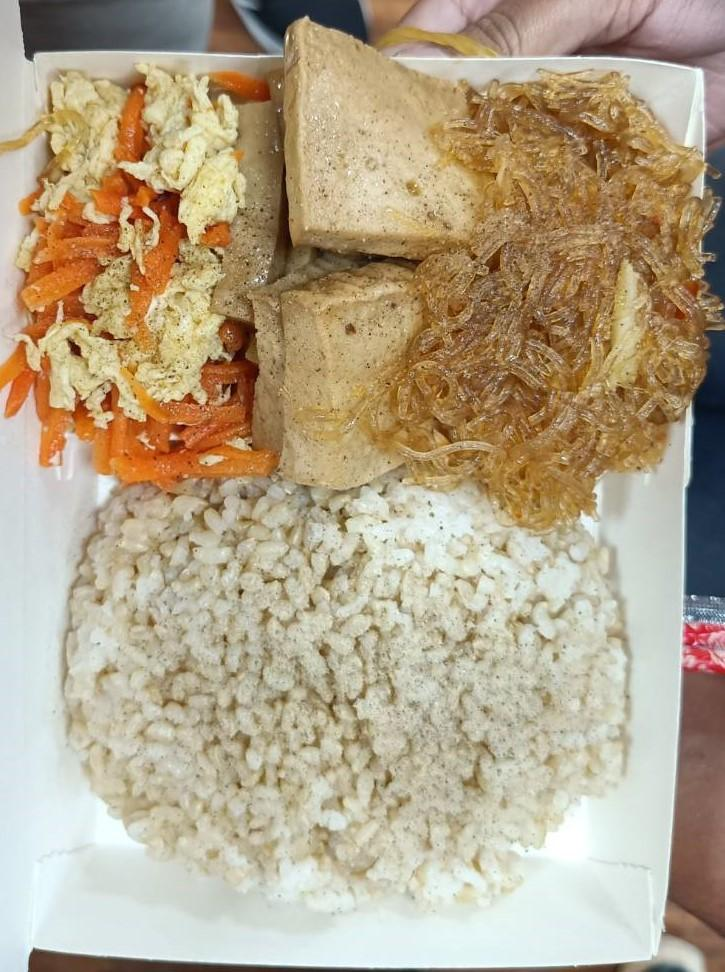big grilled chicken leg: (14, 28, 711, 972)
big herbal chicken leg: (54, 464, 635, 905)
braised fish fillet: (434, 65, 703, 526), (224, 30, 456, 488), (16, 62, 246, 482)
